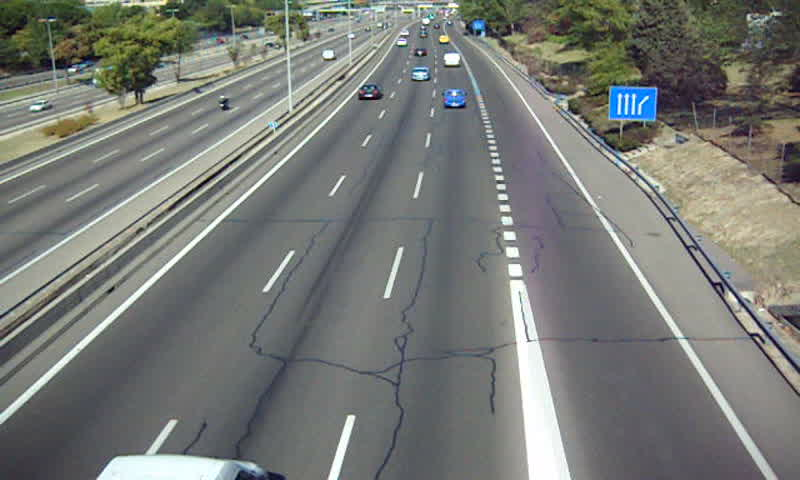car: (443, 88, 467, 108), (356, 84, 382, 102), (410, 66, 430, 81)
van: (442, 53, 461, 68)
